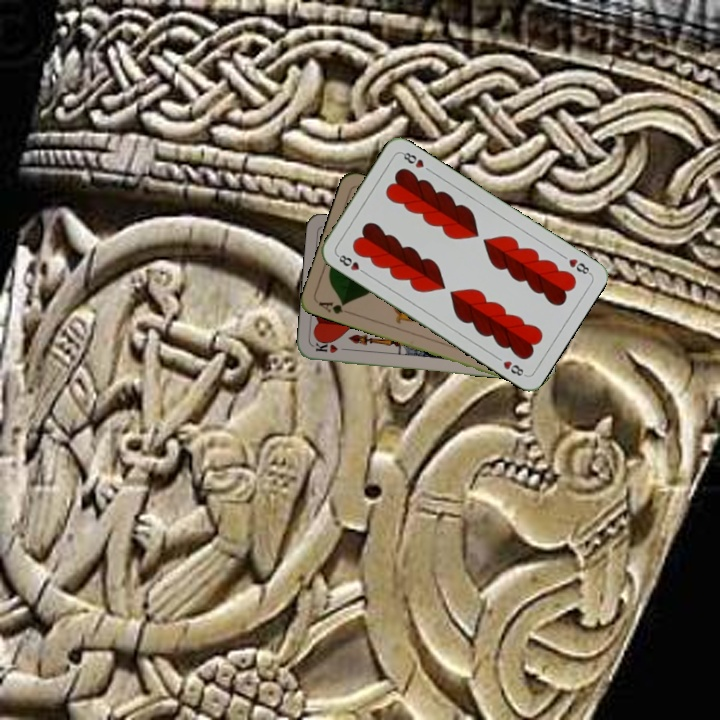GA: (314, 298, 354, 317)
H8: (333, 250, 369, 277), (557, 250, 593, 277)
HK: (311, 338, 351, 355)
